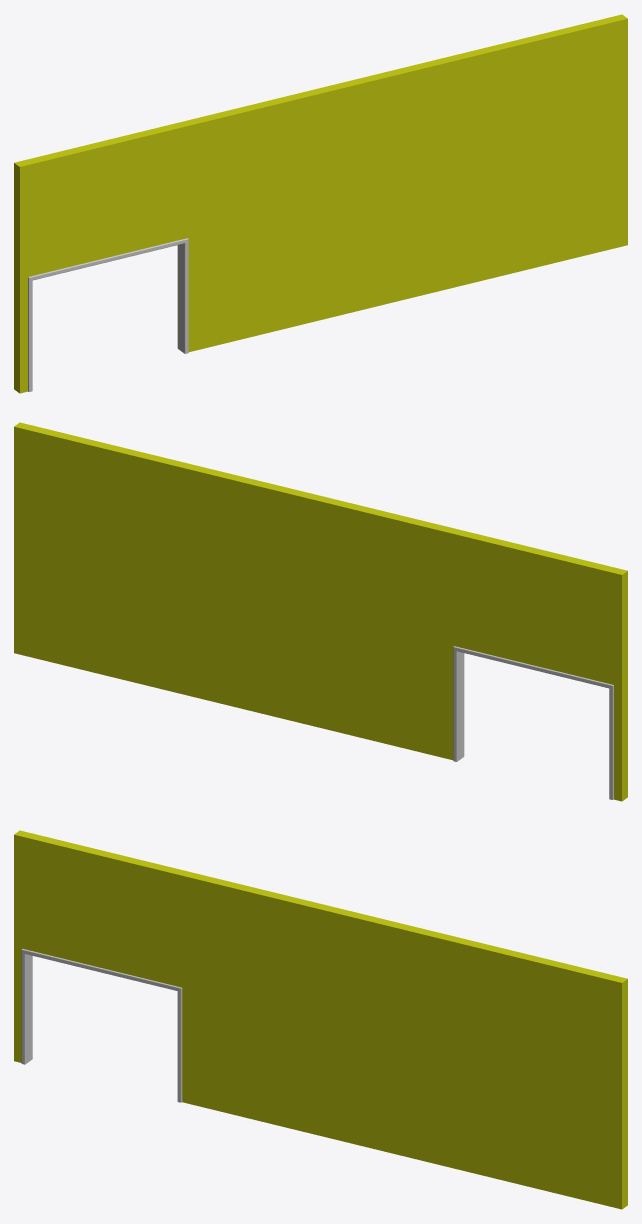
The model's file is SouthWallTxt.fbx.
The picture shows the model from 3 angles, top to bottom: view 1: azimuth 30°, elevation 25°; view 2: azimuth 150°, elevation 25°; view 3: azimuth 330°, elevation 25°; orthographic projection.
Parts seen in each view (by area): view 1: Cube; view 2: Cube; view 3: Cube.
Part boxes in pixels (<box>): Cube: <box>14,14,627,393</box>; Cube: <box>14,422,627,801</box>; Cube: <box>14,830,627,1209</box>.
Bounding box in the file's own units: 25.93 × 1199 × 427.
